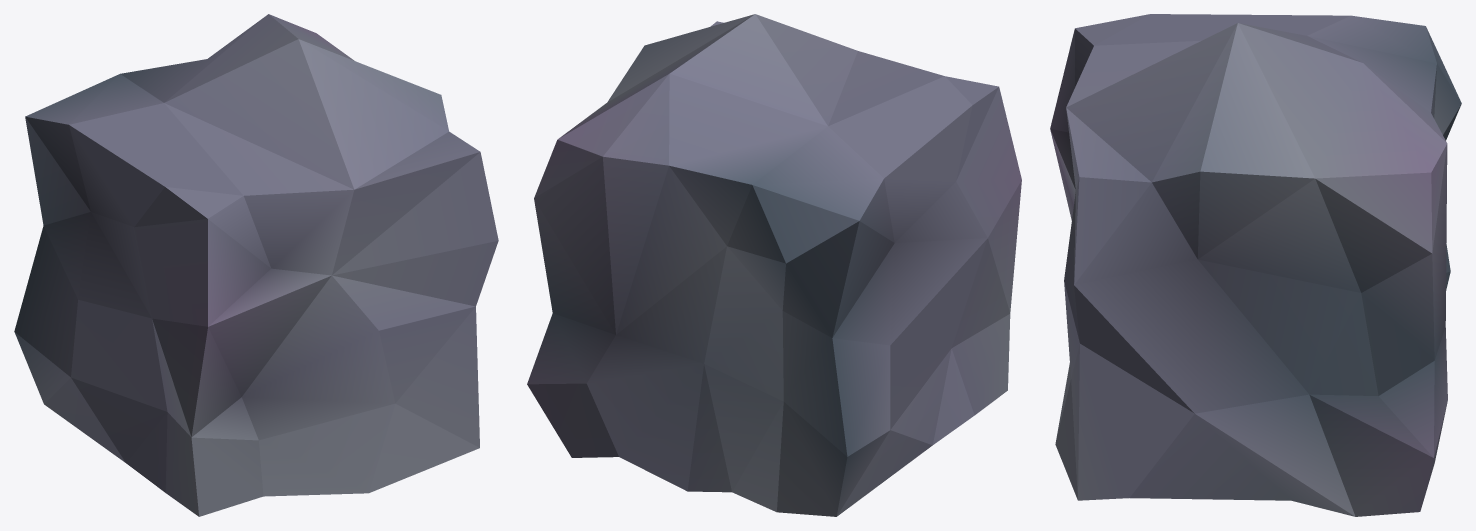
The model's file is iron-chondrite.glb.
3 views of the same model, side by side, from view 1: azimuth 30°, elevation 25°; view 2: azimuth 150°, elevation 25°; view 3: azimuth 270°, elevation 25° (orthographic). The views are drawn at different scales.
Parts seen in each view (by area): view 1: iron-chondrite; view 2: iron-chondrite; view 3: iron-chondrite.
Part boxes in pixels (bbox=[...]): iron-chondrite: bbox=[14, 14, 498, 516]; iron-chondrite: bbox=[527, 14, 1021, 516]; iron-chondrite: bbox=[1050, 14, 1461, 516].
Size of the model in its own units: 1.18 by 1.41 by 1.19.
